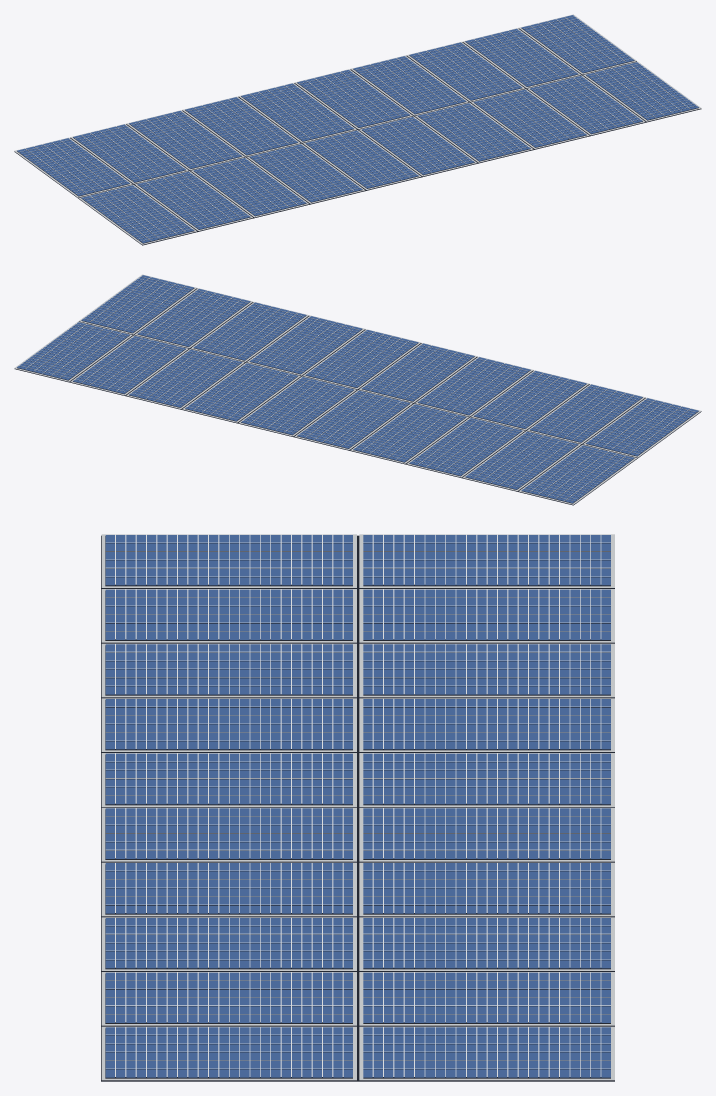
File: solar-manual.glb
3 renders of one model, top to bottom at view 1: azimuth 30°, elevation 25°; view 2: azimuth 150°, elevation 25°; view 3: azimuth 270°, elevation 25°, orthographic. The views are drawn at different scales.
Visible parts, largest first — view 1: SolarPanelSurface, SolarPanelBacking, SolarPanelGrid, SolarPanelFrame; view 2: SolarPanelSurface, SolarPanelBacking, SolarPanelGrid, SolarPanelFrame; view 3: SolarPanelSurface, SolarPanelGrid, SolarPanelBacking, SolarPanelFrame.
Part boxes in pixels (x1=…): SolarPanelSurface: x1=17, y1=15, x2=698, y2=242; SolarPanelBacking: x1=14, y1=17, x2=701, y2=245; SolarPanelGrid: x1=19, y1=16, x2=696, y2=240; SolarPanelFrame: x1=14, y1=14, x2=701, y2=244; SolarPanelSurface: x1=17, y1=275, x2=698, y2=503; SolarPanelBacking: x1=14, y1=277, x2=701, y2=505; SolarPanelGrid: x1=19, y1=276, x2=696, y2=500; SolarPanelFrame: x1=14, y1=274, x2=701, y2=504; SolarPanelSurface: x1=105, y1=535, x2=610, y2=1077; SolarPanelGrid: x1=105, y1=534, x2=610, y2=1076; SolarPanelBacking: x1=101, y1=535, x2=614, y2=1081; SolarPanelFrame: x1=101, y1=534, x2=614, y2=1080.
Size of the model in its own units: 11.52 by 0.029 by 4.58.
